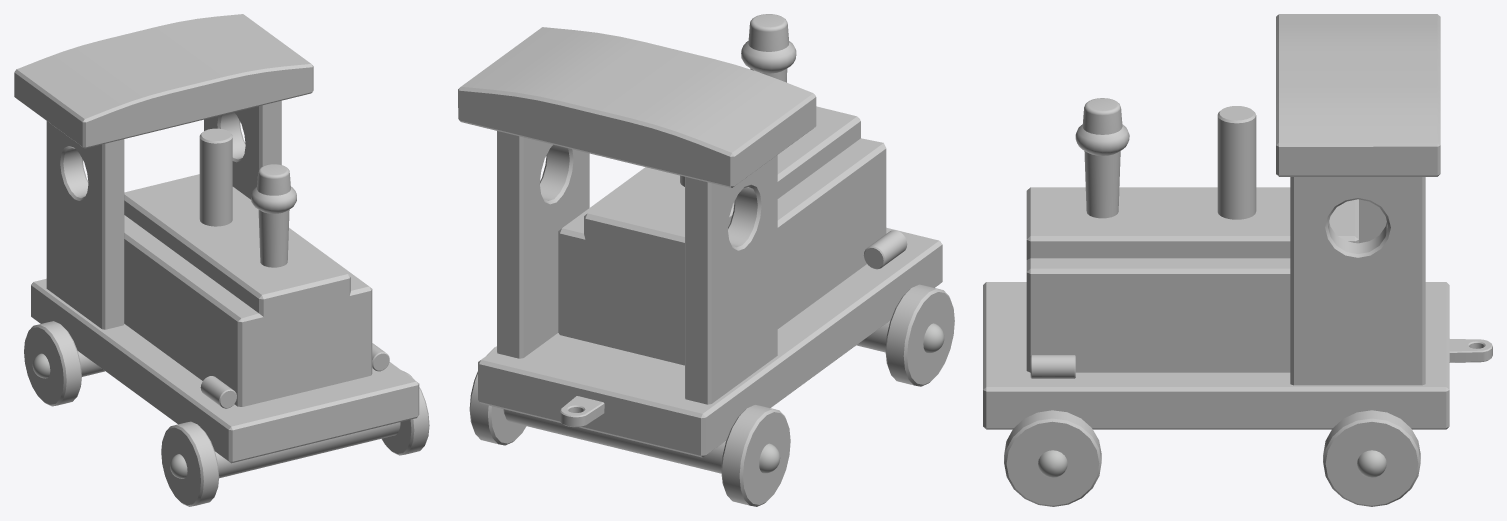
Rendered from WoodenTrainToy_TrainEngine.fbx.
3 renders of one model, left to right at view 1: azimuth 30°, elevation 25°; view 2: azimuth 150°, elevation 25°; view 3: azimuth 270°, elevation 25°, orthographic. The views are drawn at different scales.
Visible parts, largest first — view 1: TrainEngine; view 2: TrainEngine; view 3: TrainEngine.
Part boxes in pixels (x1,y1,x2,y2): TrainEngine: [14, 14, 429, 506]; TrainEngine: [458, 14, 954, 506]; TrainEngine: [983, 14, 1492, 506].
Bounding box in the file's own units: 11.02 × 13.71 × 16.92.
